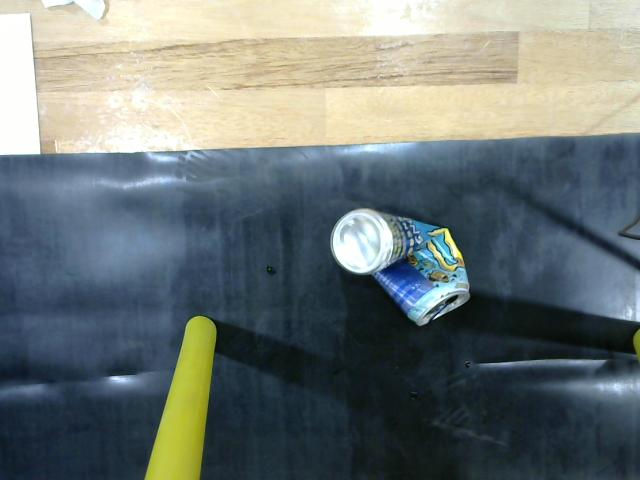can: (309, 203, 479, 334)
